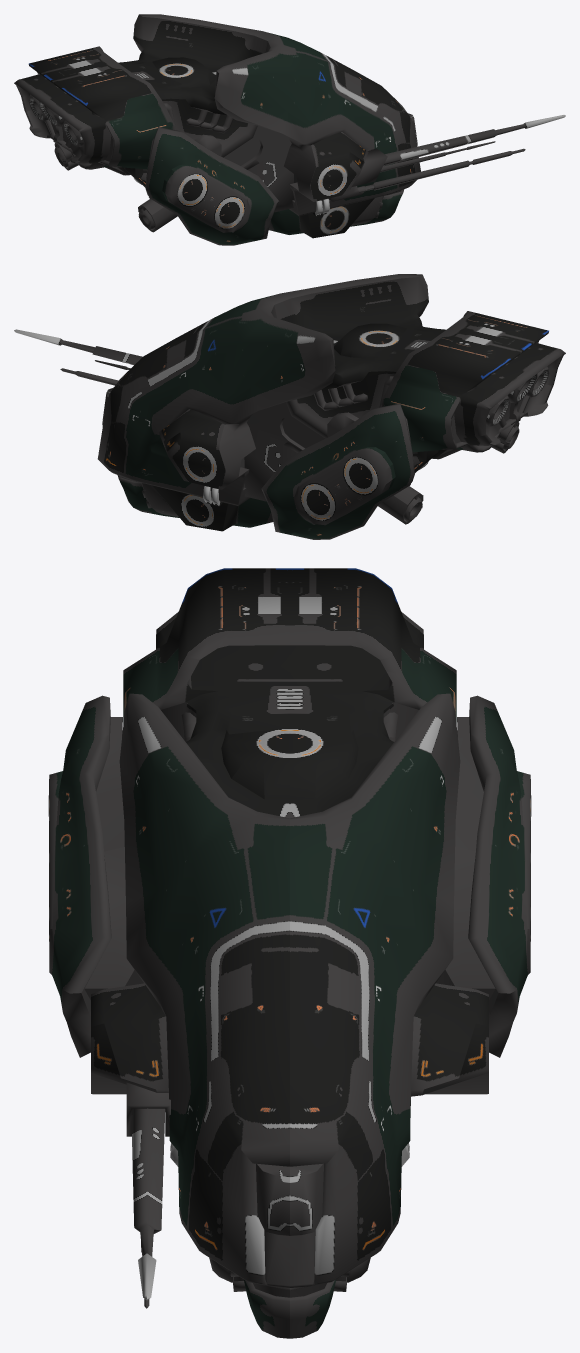
The model's file is incursus.glb.
3 views of the same model, one above another, from view 1: azimuth 30°, elevation 25°; view 2: azimuth 150°, elevation 25°; view 3: azimuth 270°, elevation 25° (orthographic). The views are drawn at different scales.
Parts seen in each view (by area): view 1: Incursus; view 2: Incursus; view 3: Incursus.
Boxes of the visible parts, left/top/right/bottom form: Incursus: left=14, top=14, right=565, bottom=245; Incursus: left=14, top=274, right=565, bottom=539; Incursus: left=48, top=568, right=531, bottom=1338.
Size of the model in its own units: 68.86 by 29.34 by 29.1.
1 material, 1 textured.
